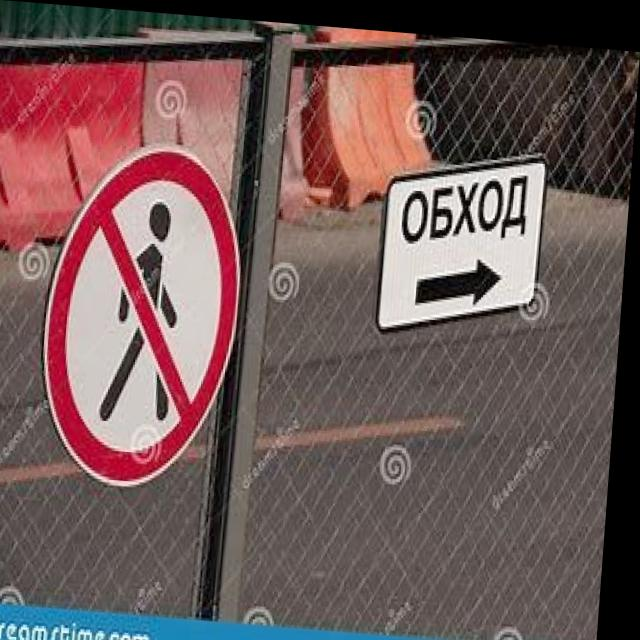PEDESTRIAN_PROHIBITED: (41, 120, 256, 497)
